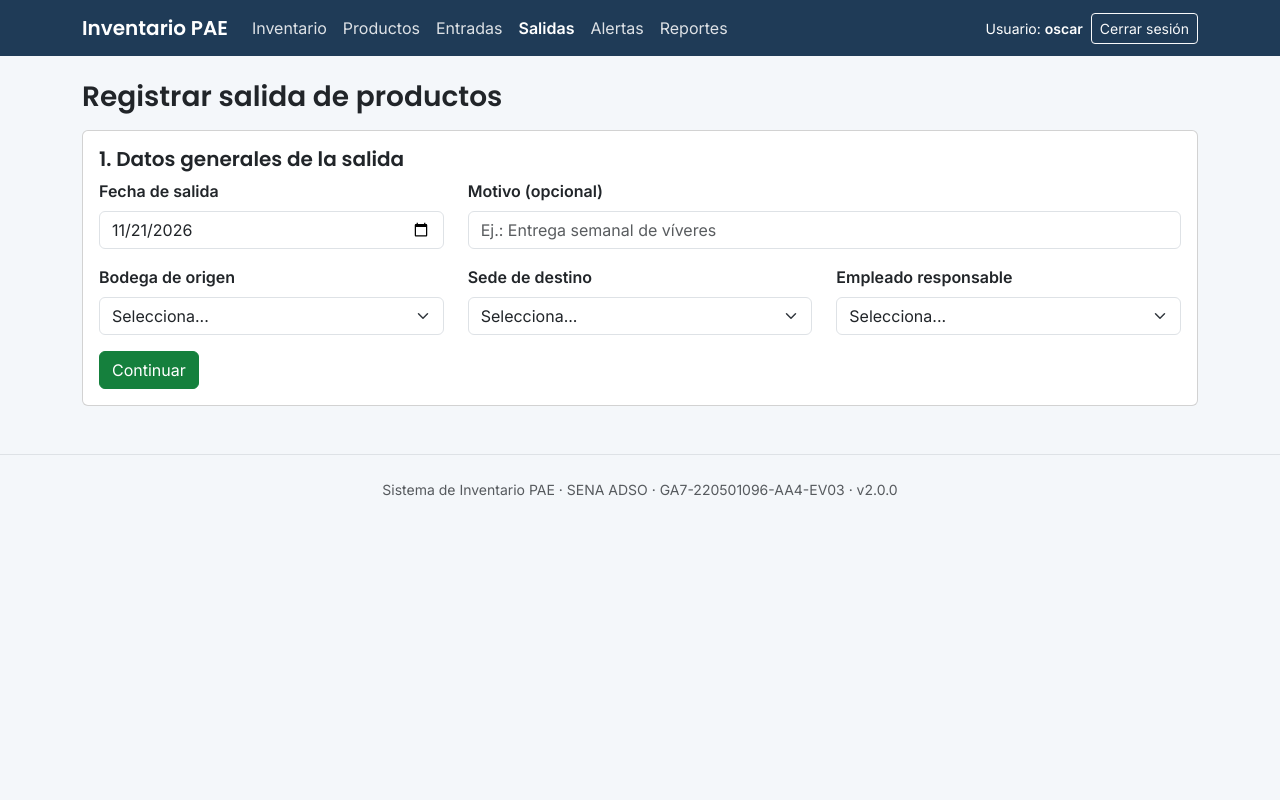
Test: Sistema de Inventario PAE (front-end) › HU-04: registra una salida correcta
Select "Bodega Central Montería" in the dropdown labelled "Bodega de origen" at (271, 316), box [99,297,444,335]
Select "IE San José" in the dropdown labelled "Sede de destino" at (640, 316), box [468,297,812,335]
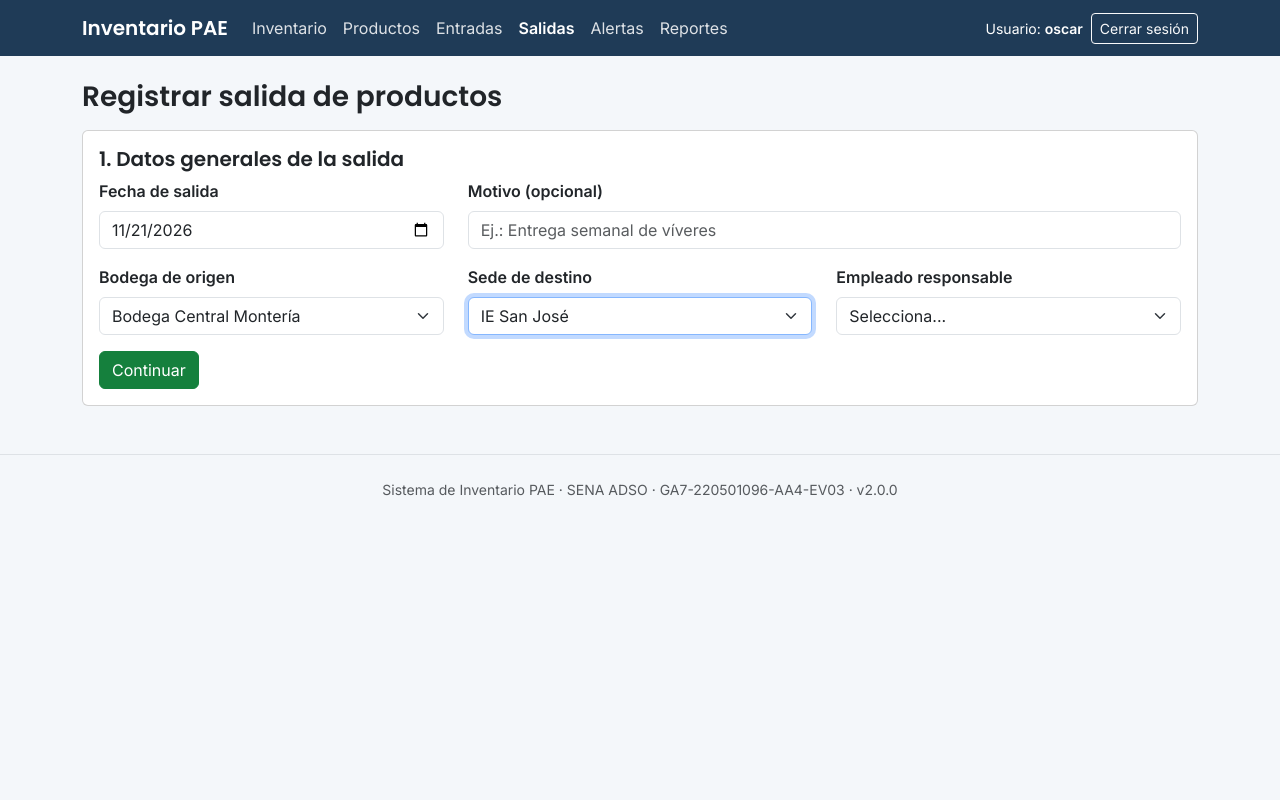
Select "Laura Martínez (Bodeguera)" in the dropdown labelled "Empleado responsable" at (1009, 316), box [836,297,1181,335]
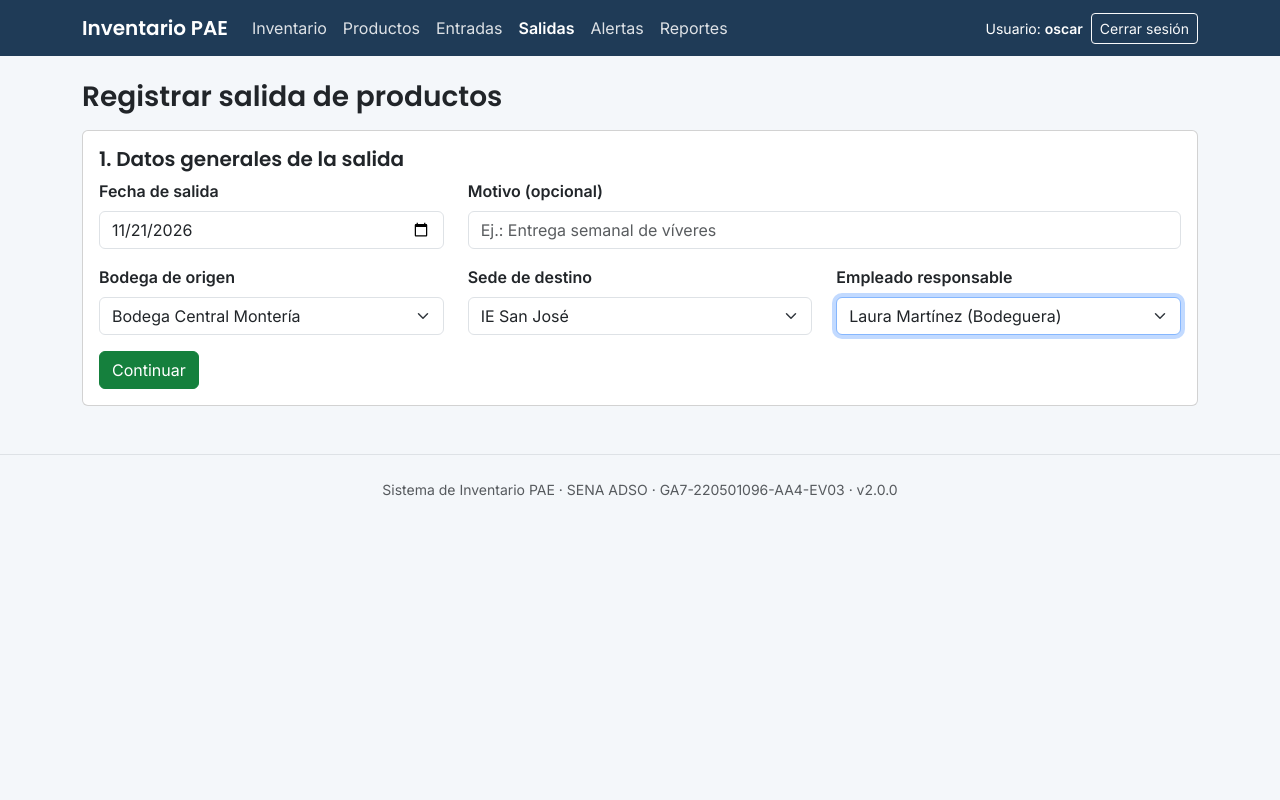
Click the button "Continuar" at (149, 370), box [99,351,199,389]
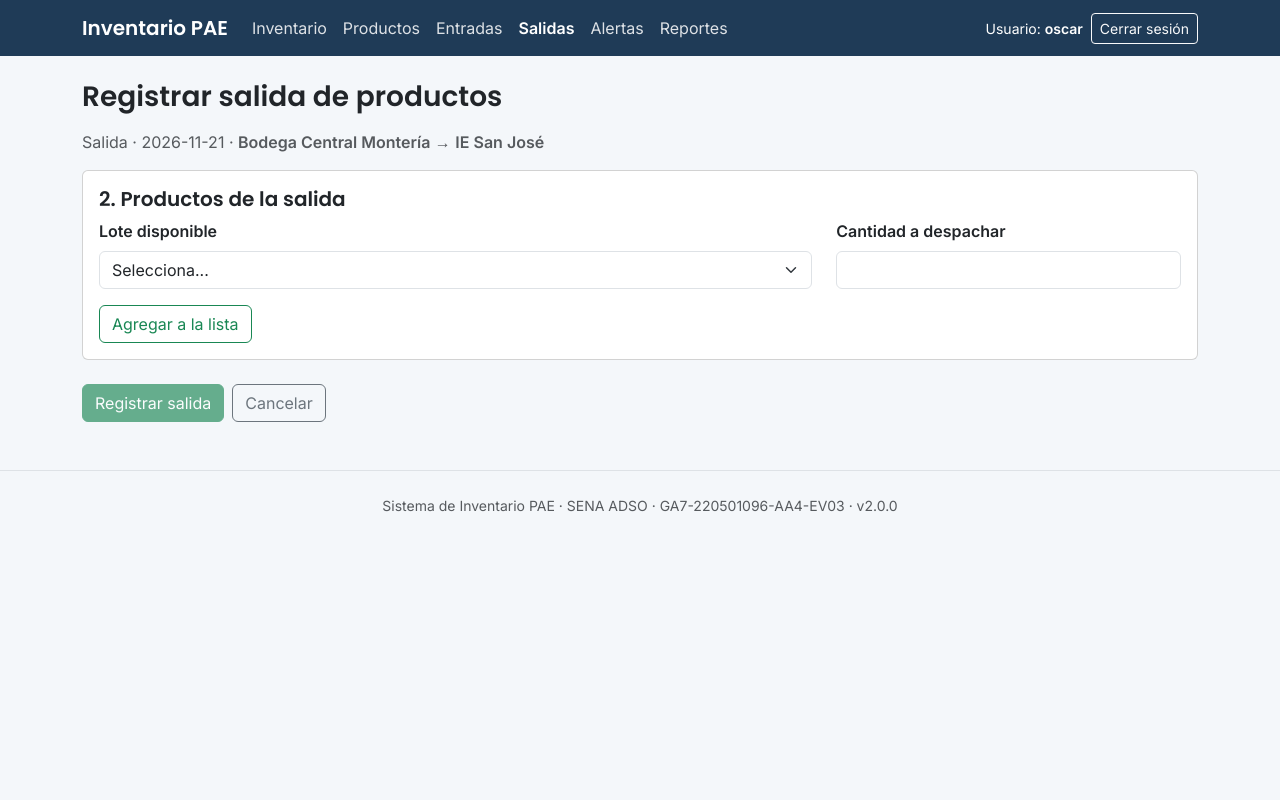
Select "Arroz · Lote #1 · vence 2027-01-01 · disponible 50" in the dropdown labelled "Lote disponible" at (456, 270), box [99,251,812,289]
Type "10" into the number field labelled "Cantidad a despachar" at (1009, 270), box [836,251,1181,289]
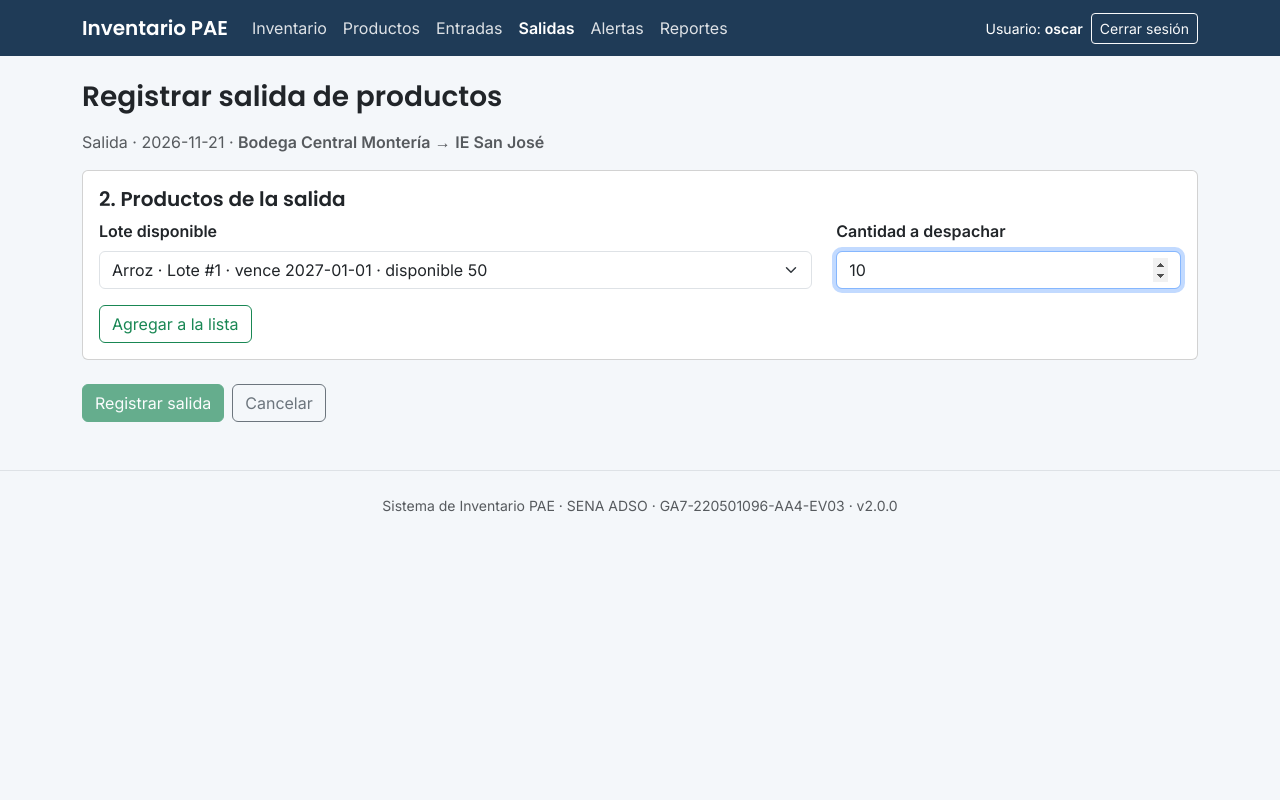
Click the button "Agregar a la lista" at (175, 324), box [99,305,252,343]
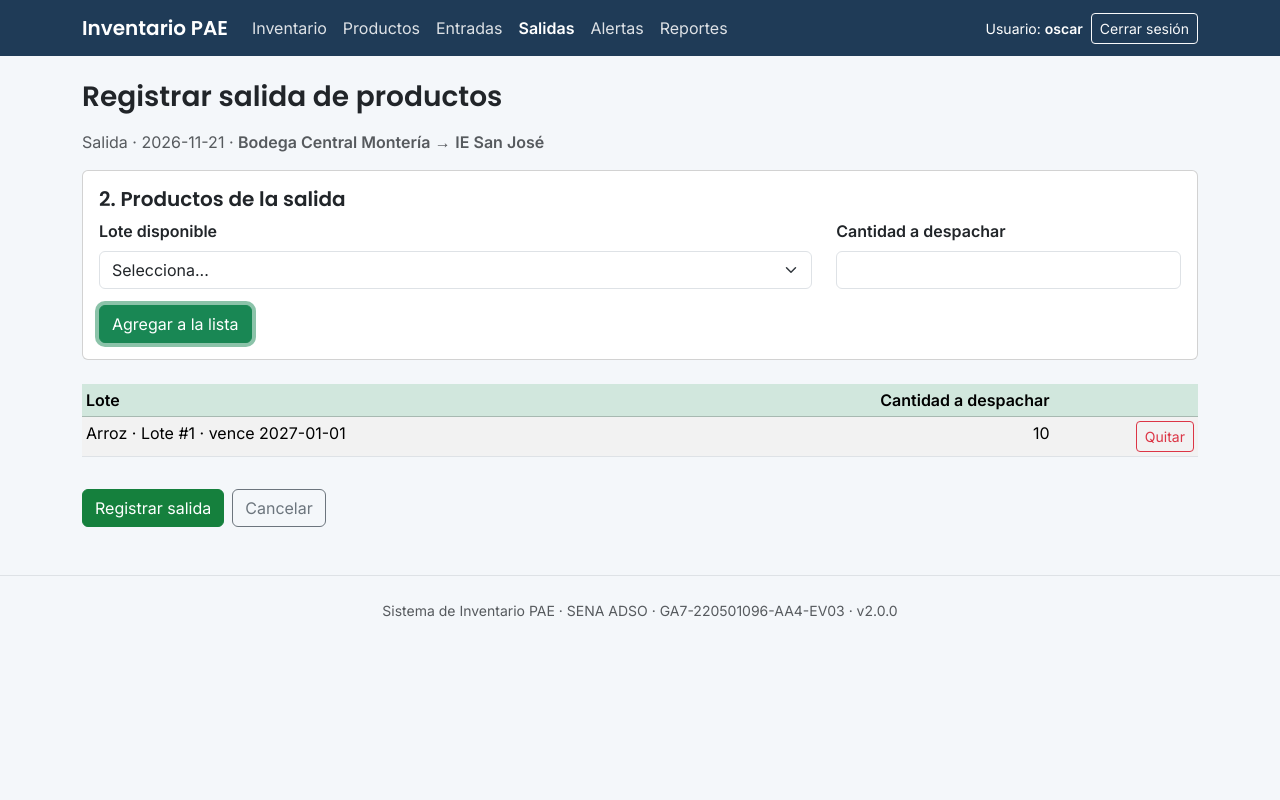
Click the button "Registrar salida" at (153, 508), box [82,489,224,527]
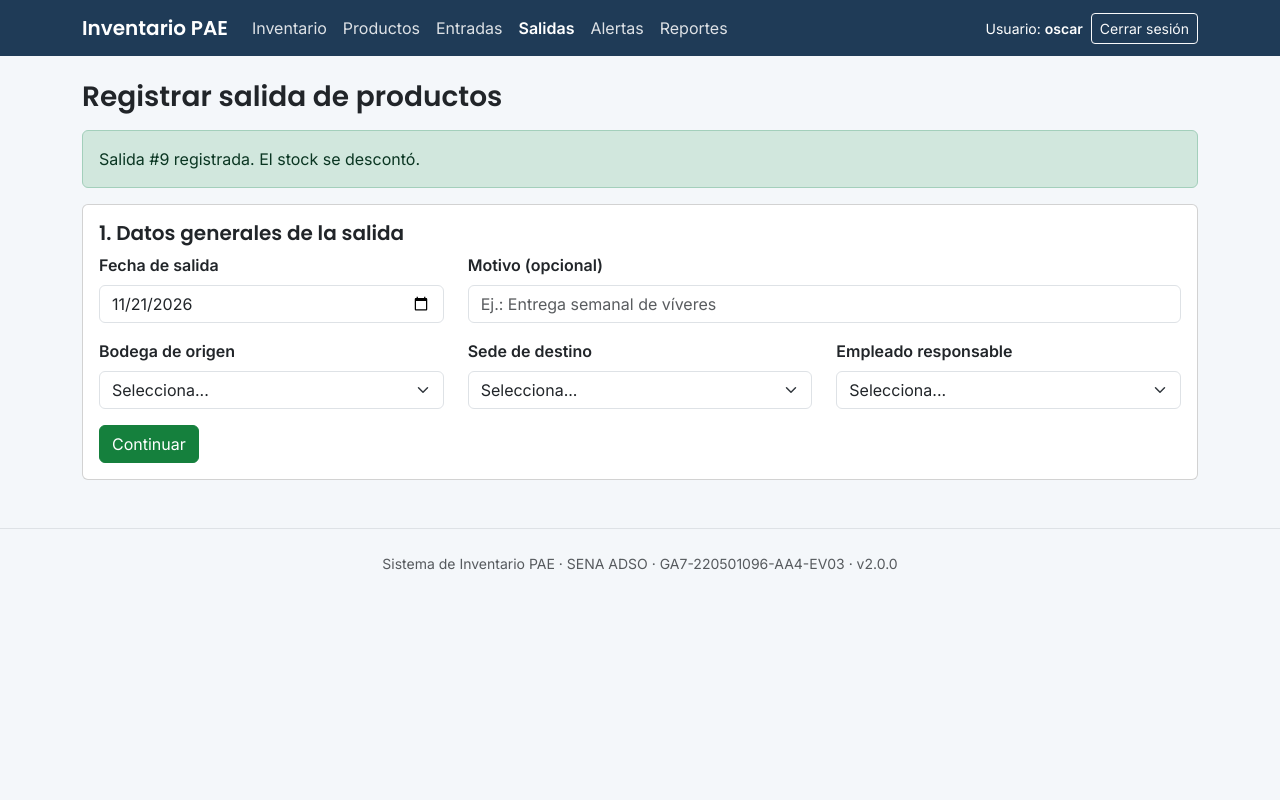
Expected: the text "Salida #9 registrada. El stock se descontó." is shown, [82,130,1198,188]
